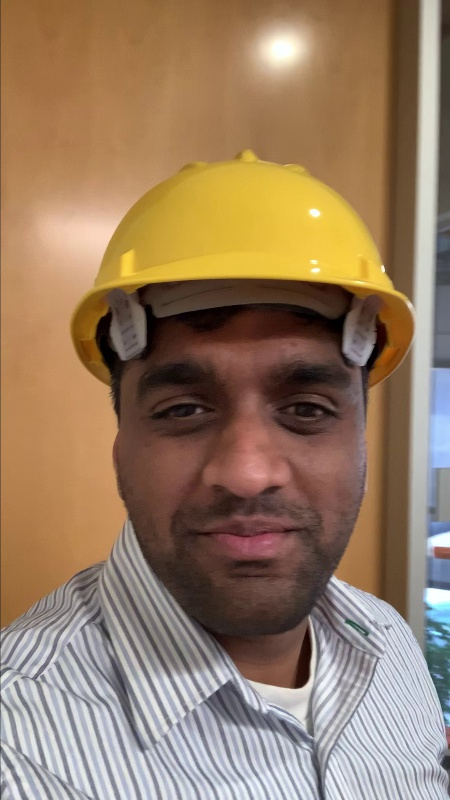helmet: (55, 147, 415, 367)
